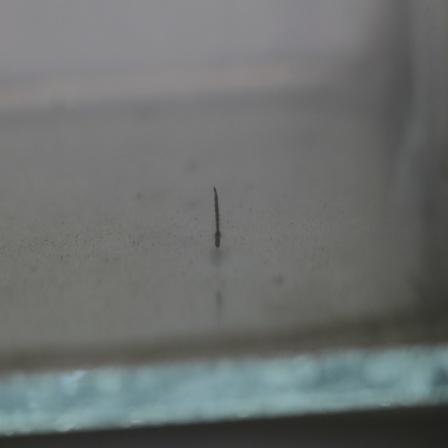Jentik-Nyamuk: (207, 184, 227, 252)
